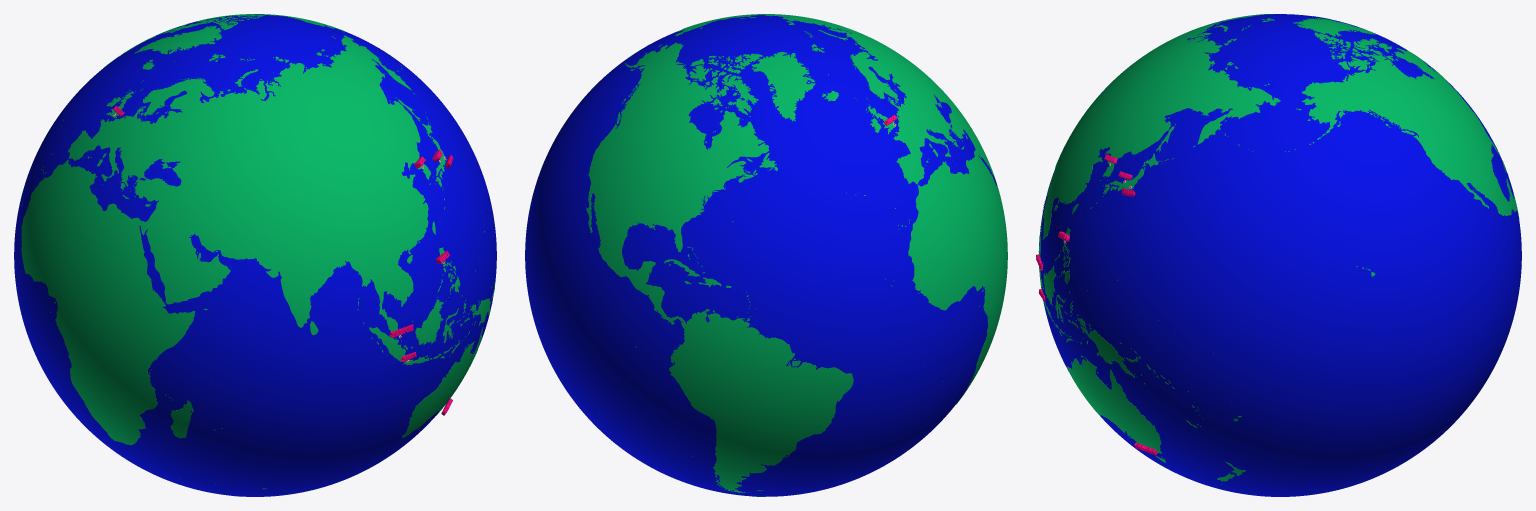
Rendered from earthText.glb.
3 views of the same model, side by side, from view 1: azimuth 30°, elevation 25°; view 2: azimuth 150°, elevation 25°; view 3: azimuth 270°, elevation 25° (orthographic).
Parts seen in each view (by area): view 1: Object_2, Object_20, Object_16, Object_12, Object_17, Object_13; view 2: Object_2, Object_19, Object_20, Object_17, Object_15; view 3: Object_2, Object_20, Object_19, Object_16, Object_14, Object_17, Object_13.
Part boxes in pixels (x1,y1,x2,y2): Object_2: [14, 14, 496, 496]; Object_20: [21, 35, 431, 445]; Object_16: [401, 327, 483, 437]; Object_12: [170, 14, 458, 438]; Object_17: [134, 26, 221, 54]; Object_13: [106, 91, 446, 344]; Object_2: [525, 15, 996, 496]; Object_19: [586, 42, 853, 490]; Object_20: [674, 14, 1007, 404]; Object_17: [751, 52, 815, 121]; Object_15: [721, 74, 758, 115]; Object_2: [1039, 14, 1521, 496]; Object_20: [1039, 14, 1280, 257]; Object_19: [1301, 48, 1519, 218]; Object_16: [1067, 357, 1161, 453]; Object_14: [1078, 32, 1343, 377]; Object_17: [1293, 18, 1376, 36]; Object_13: [1043, 167, 1145, 304].
Bounding box in the file's own units: 2 × 2 × 2.01.
